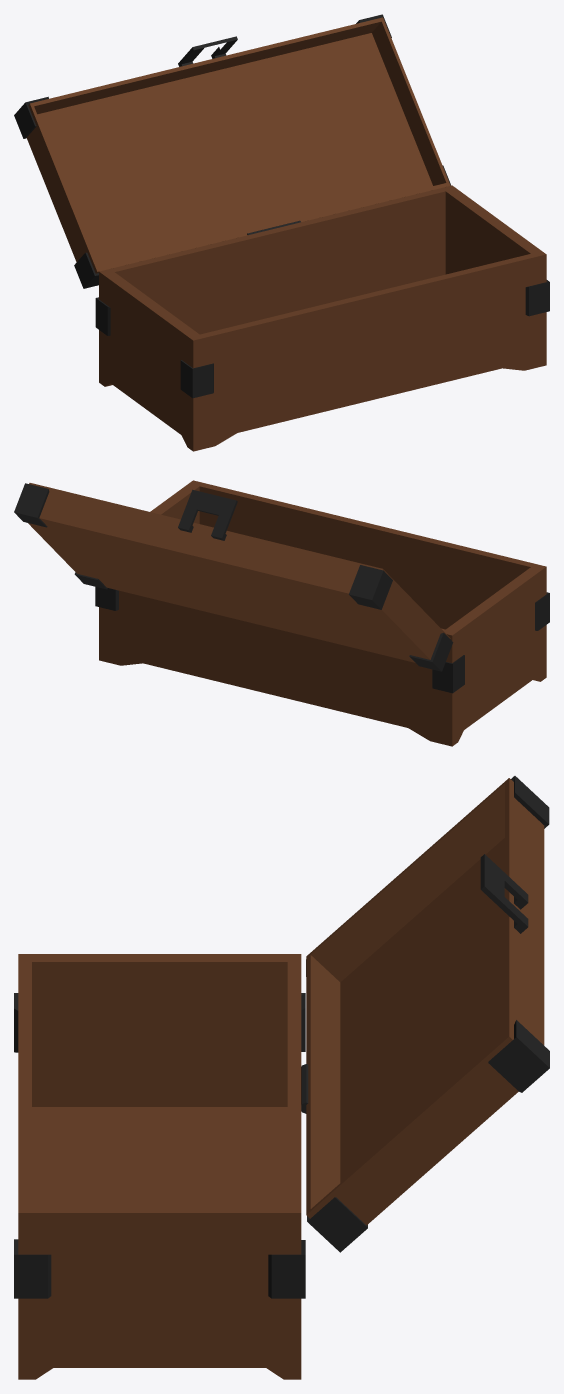
Rendered from tablechest02.gltf.
The picture shows the model from 3 angles, top to bottom: view 1: azimuth 30°, elevation 25°; view 2: azimuth 150°, elevation 25°; view 3: azimuth 270°, elevation 25°; orthographic projection. The views are drawn at different scales.
Visible parts, largest first — view 1: Cube; view 2: Cube; view 3: Cube.
Boxes of the visible parts, bbox=[...] form: Cube: bbox=[14, 14, 549, 451]; Cube: bbox=[14, 480, 549, 746]; Cube: bbox=[14, 776, 549, 1379].
Size of the model in its own units: 0.4489 by 0.3033 by 0.3877.
1 material, 1 textured.
